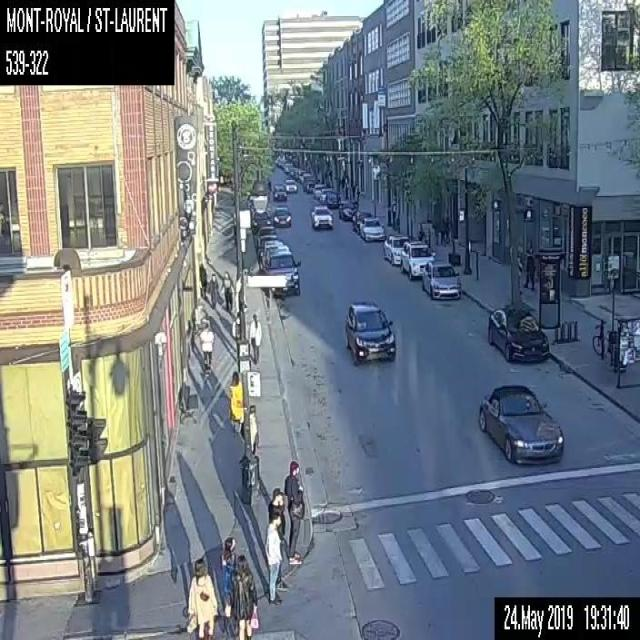pedestrian: (184, 552, 219, 639), (225, 550, 259, 639), (214, 534, 240, 632), (261, 513, 285, 609), (283, 460, 304, 568), (227, 370, 246, 440), (198, 318, 213, 370), (203, 268, 220, 310), (248, 312, 261, 364), (220, 270, 234, 310), (522, 248, 535, 291), (267, 484, 285, 511), (249, 403, 258, 456), (231, 309, 240, 340), (438, 216, 445, 246), (445, 211, 450, 245), (391, 199, 396, 229), (340, 174, 345, 194), (351, 180, 355, 201)
vehicle: (476, 381, 564, 464), (485, 304, 550, 364), (342, 300, 398, 367), (260, 246, 301, 296), (422, 261, 461, 299), (400, 239, 435, 281), (382, 234, 408, 266), (358, 215, 384, 243), (310, 202, 335, 231), (270, 204, 292, 228), (251, 210, 271, 233), (338, 200, 356, 220), (271, 183, 287, 200), (324, 192, 340, 208), (283, 178, 297, 194), (312, 184, 326, 198)
